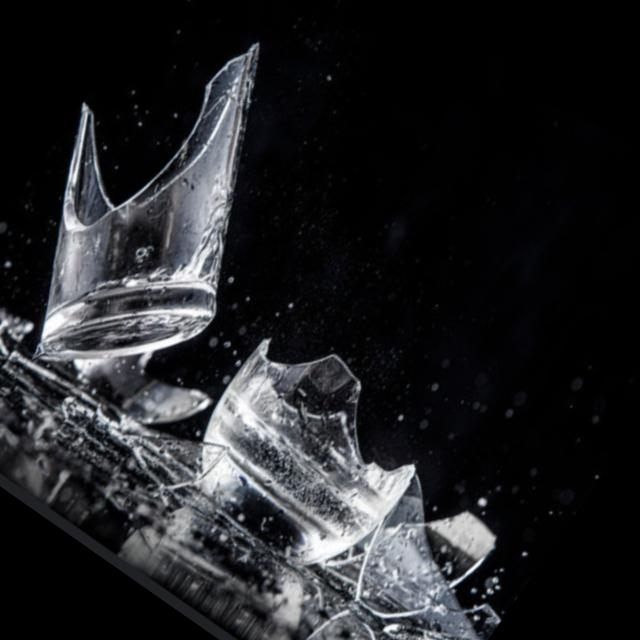PecahanKaca: (0, 0, 360, 431), (162, 310, 449, 596)
